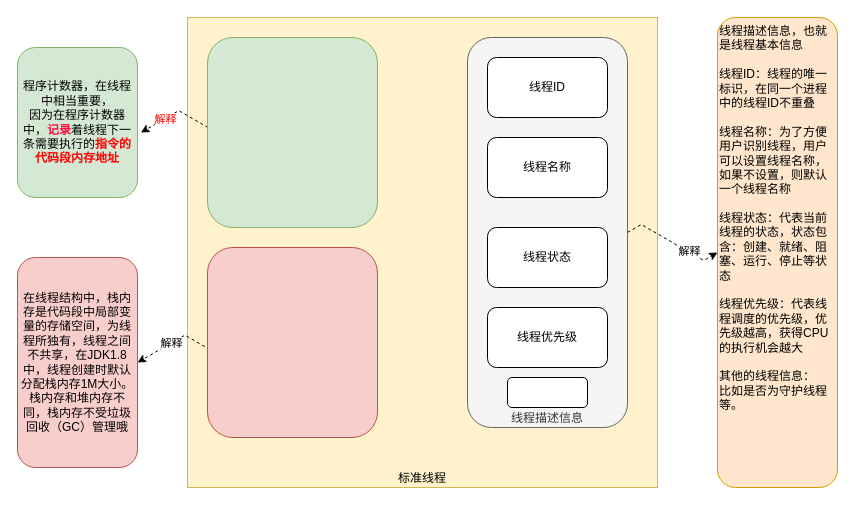
Image size: 855x505. Some labels were removed from this diagram. The shapes that lost their labels are listed below. From the top down, each one's centre as x and y in pixels, then its label:
point (292, 132): 程序计数器 （program counter）
point (292, 342): 栈内存
point (547, 392): ETC
